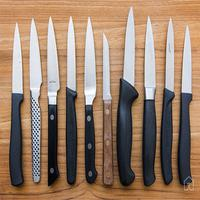knife: (77, 4, 100, 196), (39, 12, 62, 187), (60, 8, 81, 194), (95, 15, 117, 189), (119, 1, 139, 192), (23, 15, 45, 188), (138, 10, 158, 189), (9, 19, 29, 192), (179, 20, 200, 180), (160, 13, 178, 193)
